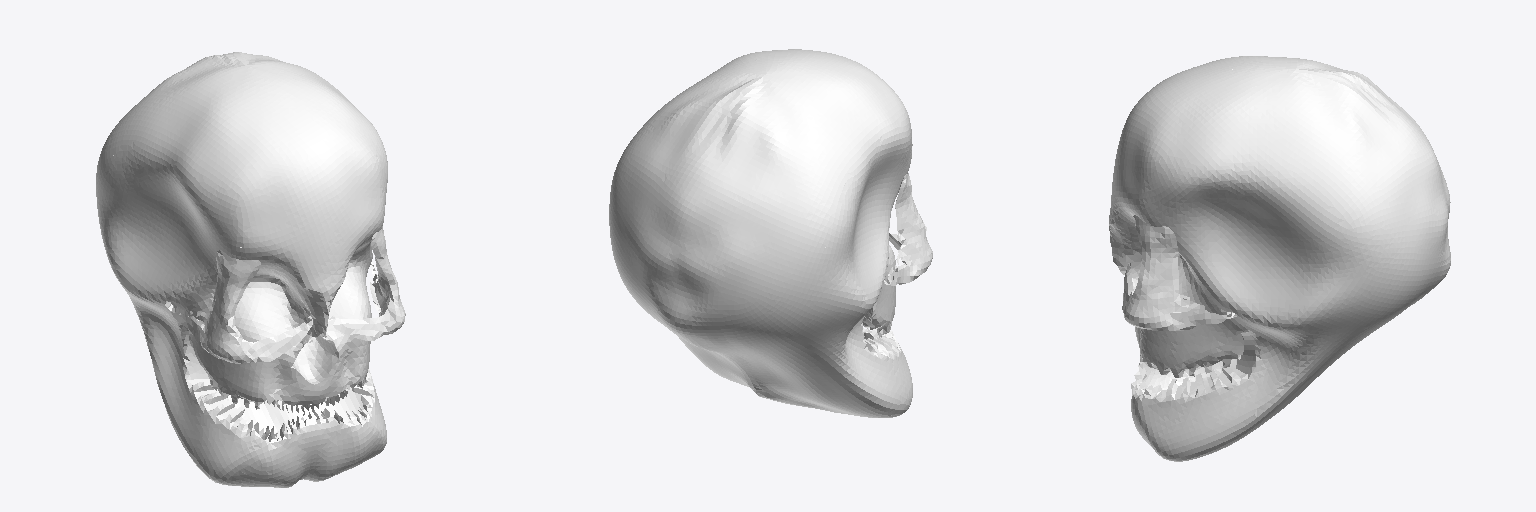
Rendered from skull_me_no_eyes_retopo_colored.obj.
3 views of the same model, side by side, from view 1: azimuth 30°, elevation 25°; view 2: azimuth 150°, elevation 25°; view 3: azimuth 270°, elevation 25° (orthographic).
Visible parts, largest first — view 1: obj1; view 2: obj1; view 3: obj1.
Boxes of the visible parts, box(x1,y1,x2,y2) form: obj1: box(96, 52, 405, 487); obj1: box(609, 49, 932, 417); obj1: box(1109, 56, 1450, 461).
Bounding box in the file's own units: 0.3591 × 0.5389 × 0.4501.